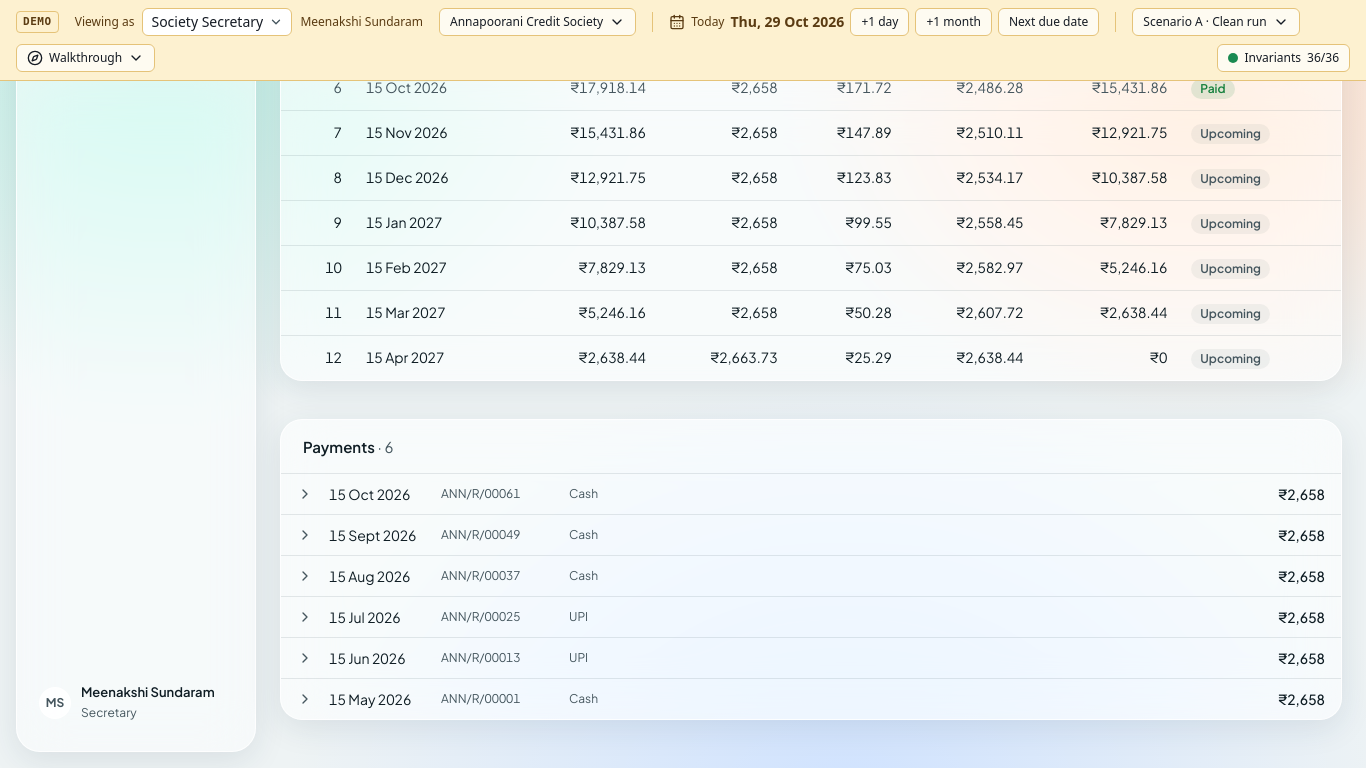
Scenario: loan detail › shows the society the schedule, and each receipt’s split and journal entry
This screenshot has width=1366, height=768.
(page scrolled)
Click the text "ANN/R/00061".
click(481, 494)  # box [441,486,520,501]
(page scrolled)
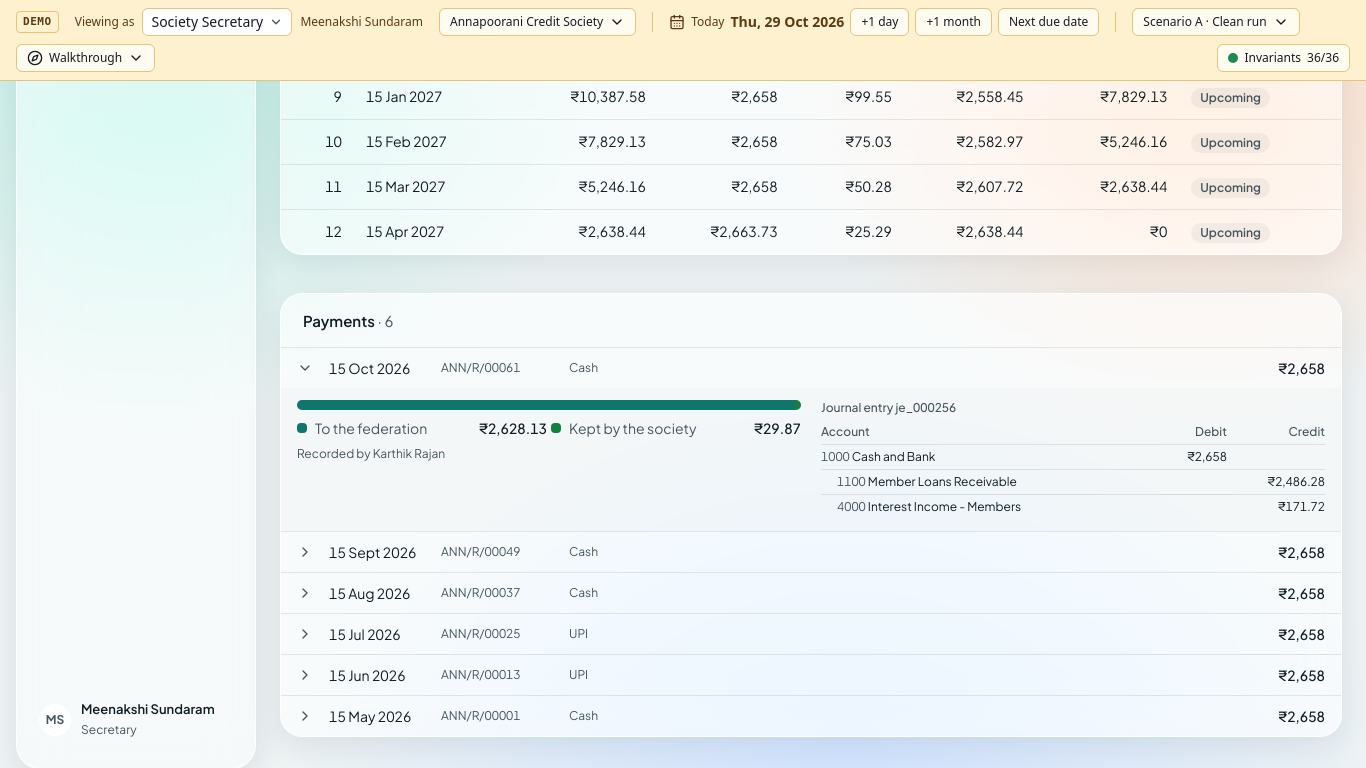
Expected: the table named "Journal entry je_" is shown, [821,420,1325,519]
Expected: the text "Recorded by Karthik Rajan" is shown, [297,446,445,461]
